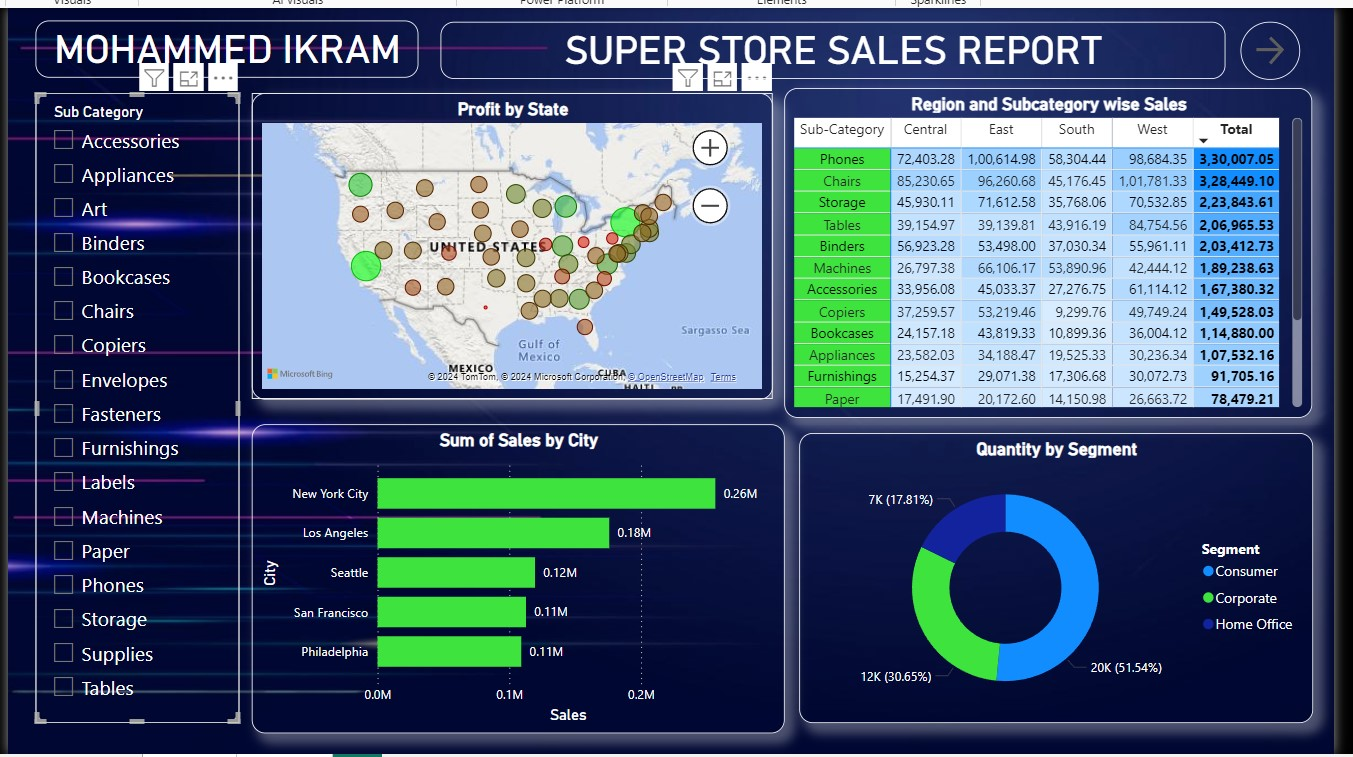

What the dashboard file says about the page in this screenshot:
{"tool":"powerbi","page":{"name":"Page 1","canvas":[1280,720],"ordinal":0},"visuals":[{"type":"textbox","title":"MOHAMMED IKRAM","box":[26.9,11.5,369.2,55.1],"z":0},{"type":"donutChart","title":"Quantity by Segment","fields":{"Category":["Orders.Segment"],"Y":["Orders.Quantity"]},"box":[763.4,409.9,495.8,280.3],"z":1000},{"type":"barChart","fields":{"Category":["Orders.City"],"Y":["Orders.Sales"]},"box":[235.2,401.4,514.1,298.6],"z":2000},{"type":"map","title":"Profit by State","fields":{"Size":["Orders.Profit"],"Category":["Orders.State"]},"box":[235.2,81.7,502.8,295.8],"z":3000},{"type":"pivotTable","title":"Region and Subcategory wise Sales","fields":{"Rows":["Orders.Sub-Category"],"Values":["Orders.Sales"],"Columns":["Orders.Region"]},"box":[749.3,77.5,509.9,318.3],"z":4000},{"type":"textbox","title":"SUPER STORE SALES REPORT","box":[416.9,12.7,757.7,54.9],"z":6000},{"type":"actionButton","box":[1190.1,12.7,57.7,56.3],"z":7000},{"type":"slicer","fields":{"Values":["Orders.Sub-Category"]},"box":[26.5,82,196.6,608],"z":8000}]}

Visuals, with their boxes on the page's 1280x720 design canvas (x1, y1, x2, y2). These are canvas units, not pixel positions in the 1353x757 screenshot, which may show the page scaled, cropped or inside an application window:
"MOHAMMED IKRAM" textbox: 27, 12, 396, 67
"Quantity by Segment" donutChart: 763, 410, 1259, 690
barChart - Orders.City x Orders.Sales: 235, 401, 749, 700
"Profit by State" map: 235, 82, 738, 378
"Region and Subcategory wise Sales" pivotTable: 749, 78, 1259, 396
"SUPER STORE SALES REPORT" textbox: 417, 13, 1175, 68
actionButton: 1190, 13, 1248, 69
slicer - Orders.Sub-Category: 26, 82, 223, 690
